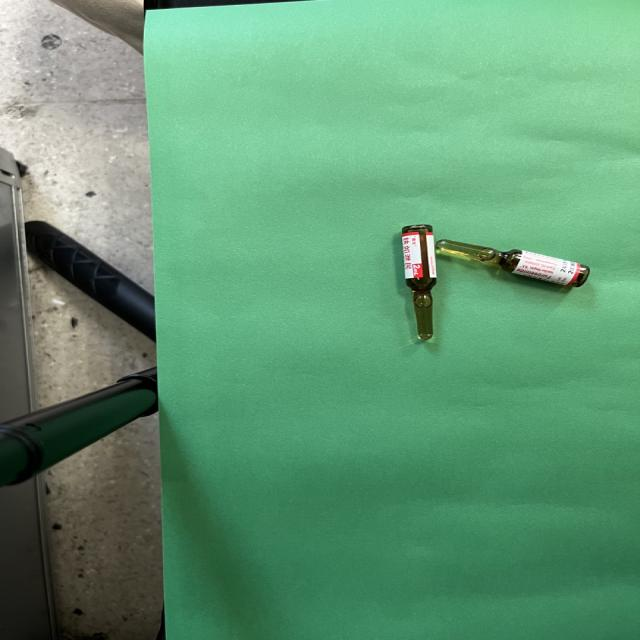Ampoules: (435, 240, 589, 286), (401, 224, 436, 340)
